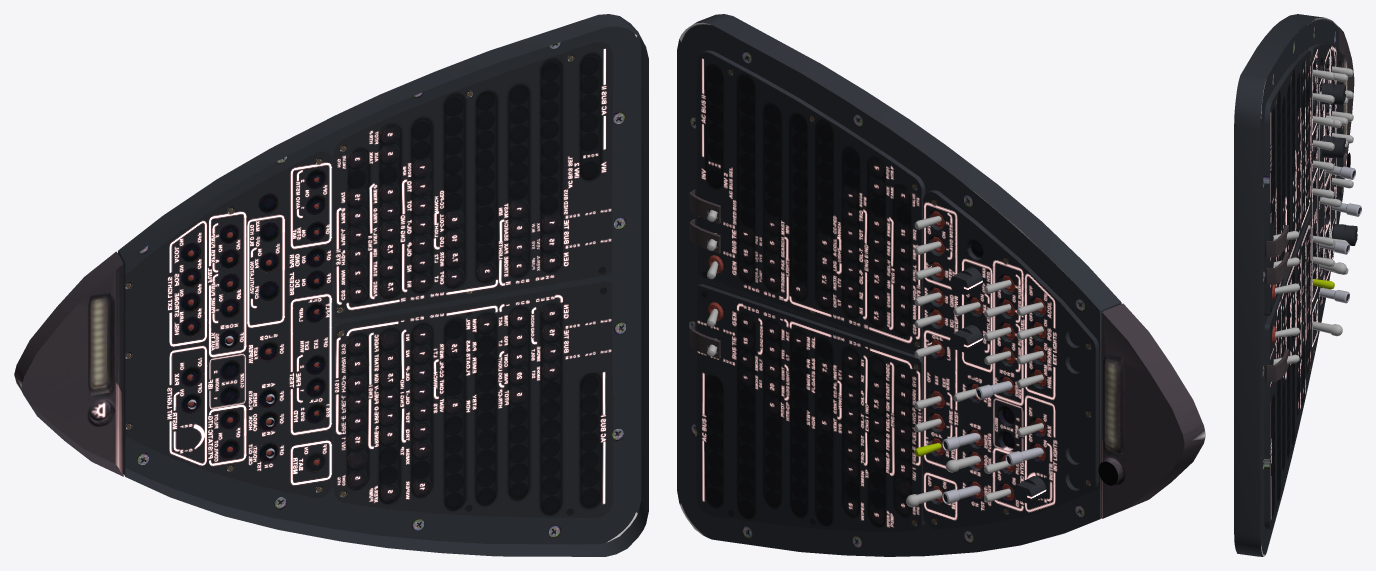
Rendered from overhead.gltf.
The picture shows the model from 3 angles, left to right: view 1: azimuth 30°, elevation 25°; view 2: azimuth 150°, elevation 25°; view 3: azimuth 270°, elevation 25°; orthographic projection. The views are drawn at different scales.
Parts seen in each view (by area): view 1: OverheadPanel, OverheadFloodlight; view 2: OverheadPanel, OverheadFloodlight, swbase, vent.knob, bldhtg.knob, instrlight.knob; view 3: OverheadPanel, OverheadFloodlight, guard.switch.007, guard.switch.000, guard.switch.005, bldhtg.knob, vent.knob, instrlight.knob, cablecut.sw, battmstr.sw, auxtk.sw, instrl.sw (+10 smaller).
Boxes of the visible parts, x1,y1,x2,y2 form: OverheadPanel: [118, 14, 648, 556]; OverheadFloodlight: [14, 251, 123, 476]; OverheadPanel: [677, 14, 1121, 556]; OverheadFloodlight: [1102, 303, 1205, 518]; swbase: [708, 210, 1046, 500]; vent.knob: [950, 324, 982, 352]; bldhtg.knob: [950, 267, 982, 295]; instrlight.knob: [1013, 476, 1046, 503]; OverheadPanel: [1234, 14, 1343, 556]; OverheadFloodlight: [1339, 27, 1354, 179]; guard.switch.007: [1265, 252, 1289, 284]; guard.switch.000: [1265, 349, 1289, 381]; guard.switch.005: [1265, 225, 1289, 257]; bldhtg.knob: [1321, 83, 1345, 104]; vent.knob: [1321, 136, 1345, 157]; instrlight.knob: [1333, 224, 1357, 245]; cablecut.sw: [1320, 287, 1349, 303]; battmstr.sw: [1312, 321, 1342, 336]; auxtk.sw: [1326, 166, 1355, 179]; instrl.sw: [1331, 203, 1361, 216].
Bounding box in the file's own units: 0.4817 × 0.4188 × 0.1023.
Materials: 4 (2 with a texture image).
